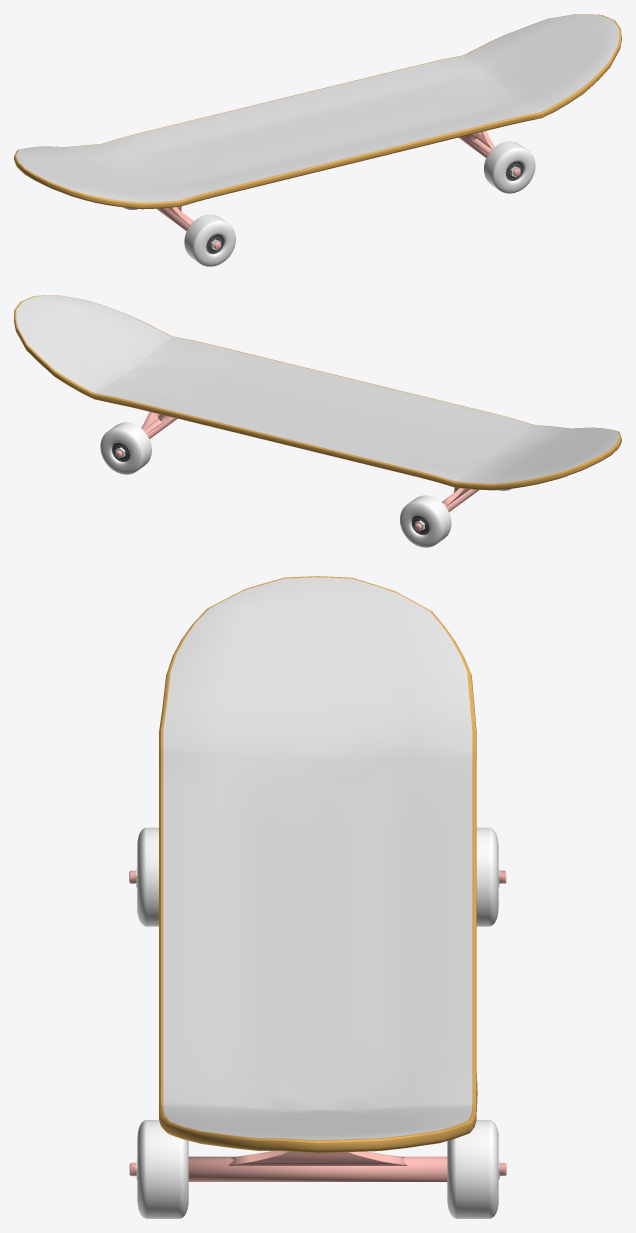
Rendered from NewSkateboardGriptape.gltf.
3 renders of one model, top to bottom at view 1: azimuth 30°, elevation 25°; view 2: azimuth 150°, elevation 25°; view 3: azimuth 270°, elevation 25°, orthographic. The views are drawn at different scales.
Visible parts, largest first — view 1: Deck, TrucksJoined; view 2: Deck, TrucksJoined; view 3: Deck, TrucksJoined.
Part boxes in pixels (x1,y1,x2,y2): Deck: (14, 14, 621, 209); TrucksJoined: (123, 131, 535, 266); Deck: (14, 295, 621, 490); TrucksJoined: (100, 412, 511, 547); Deck: (159, 576, 477, 1152); TrucksJoined: (129, 827, 506, 1218).
Size of the model in its own units: 3.92 by 0.6751 by 1.08.
